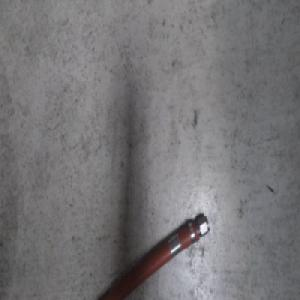Hose: (69, 210, 210, 300)
